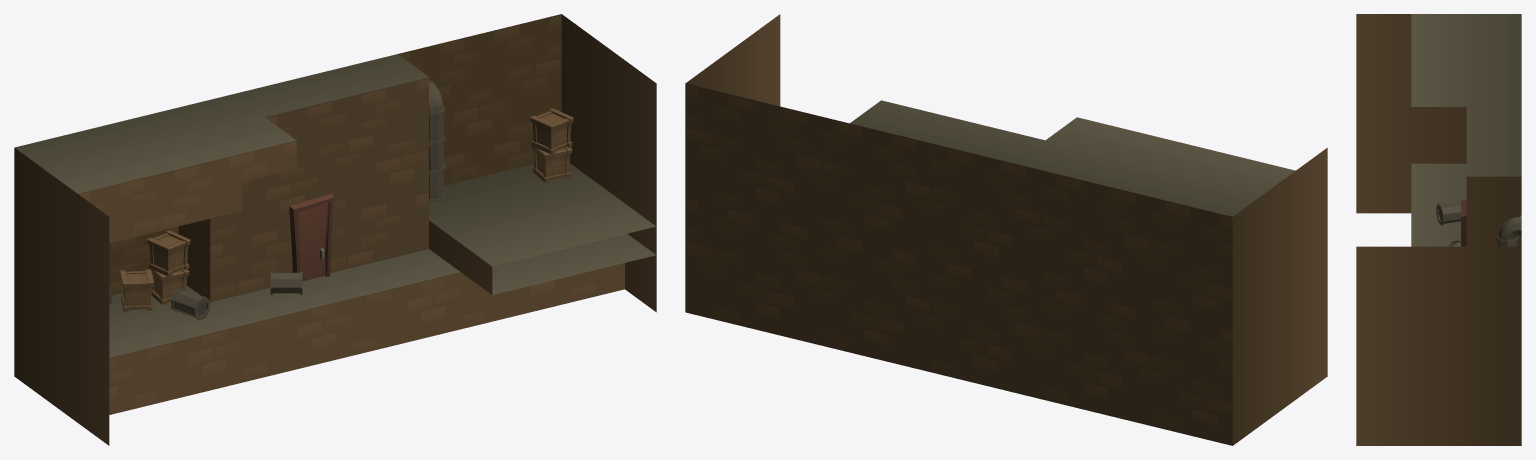
Rendered from Room29_8x20.fbx.
3 views of the same model, side by side, from view 1: azimuth 30°, elevation 25°; view 2: azimuth 150°, elevation 25°; view 3: azimuth 270°, elevation 25° (orthographic). The views are drawn at different scales.
Visible parts, largest first — view 1: Room29_8x20; view 2: Room29_8x20; view 3: Room29_8x20.
Part boxes in pixels (box(x1,y1,x2,y2)): Room29_8x20: box(14, 14, 656, 445); Room29_8x20: box(685, 14, 1327, 445); Room29_8x20: box(1356, 14, 1521, 445).
Bounding box in the file's own units: 2000 × 600 × 800.
